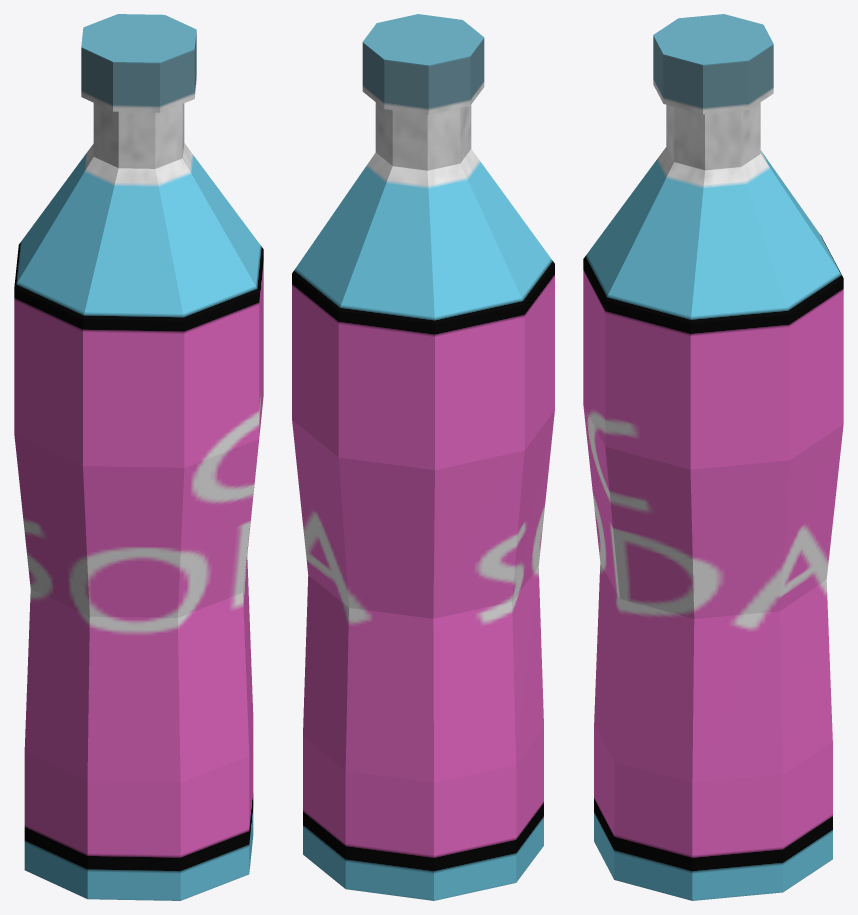
Rendered from bottle 6.FBX.
3 renders of one model, left to right at view 1: azimuth 30°, elevation 25°; view 2: azimuth 150°, elevation 25°; view 3: azimuth 270°, elevation 25°, orthographic.
Visible parts, largest first — view 1: 礦泉水026; view 2: 礦泉水026; view 3: 礦泉水026.
Boxes of the visible parts, box(x1,y1,x2,y2) form: 礦泉水026: box(14, 14, 263, 900); 礦泉水026: box(292, 14, 554, 900); 礦泉水026: box(583, 14, 843, 900).
Size of the model in its own units: 37.75 by 130 by 37.75.
1 material, 1 textured.
